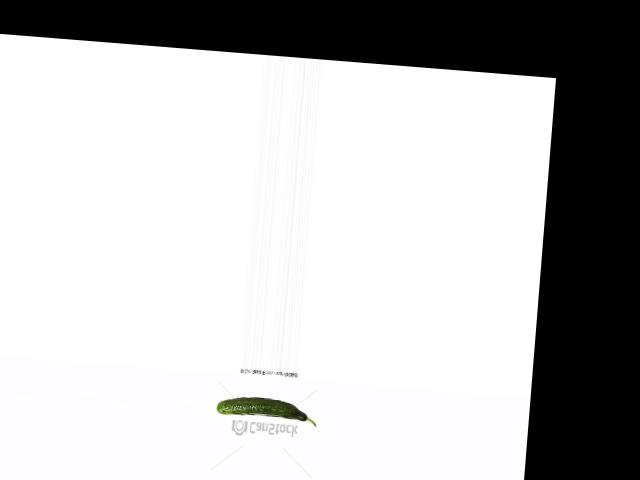cucumber: (216, 394, 319, 426)
